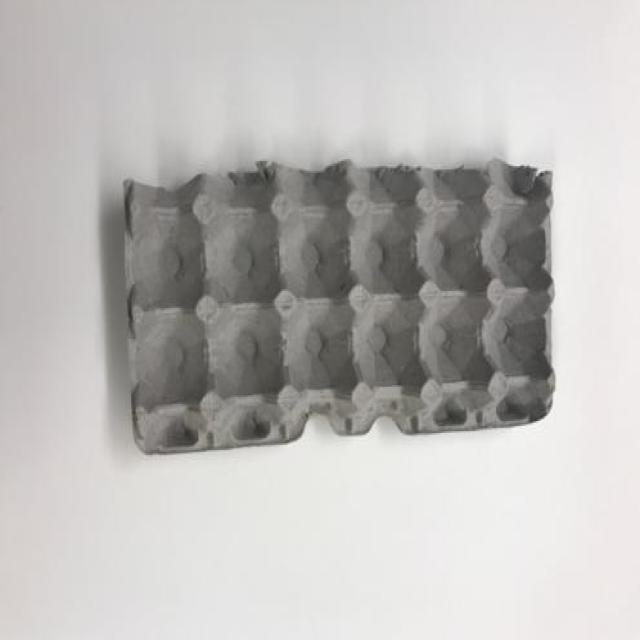kertas: (125, 156, 558, 455)
